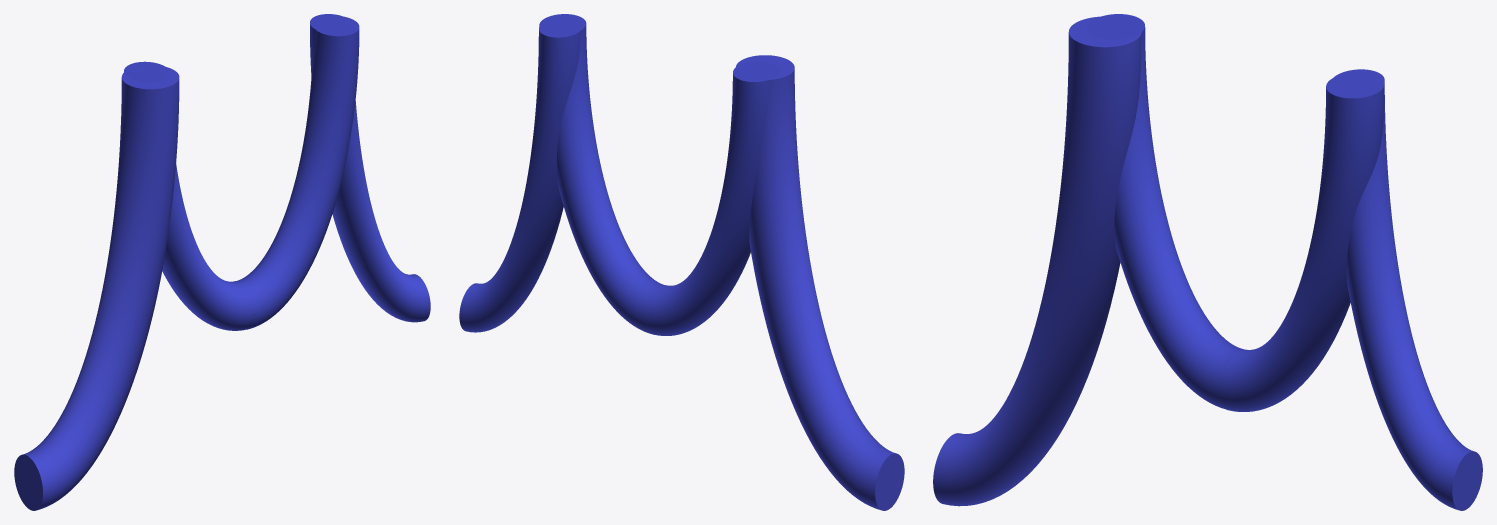
3 views of the same model, side by side, from view 1: azimuth 30°, elevation 25°; view 2: azimuth 150°, elevation 25°; view 3: azimuth 330°, elevation 25° (orthographic). The views are drawn at different scales.
Visible parts, largest first — view 1: root, node_id78, node_id79, node_id80; view 2: root, node_id79, node_id80, node_id78; view 3: root, node_id79, node_id78, node_id80.
Part boxes in pixels (<box>): root: <box>14,65,179,510</box>; node_id78: <box>237,16,359,329</box>; node_id79: <box>310,14,430,322</box>; node_id80: <box>124,61,253,330</box>; root: <box>736,55,904,510</box>; node_id79: <box>459,17,582,332</box>; node_id80: <box>647,61,779,335</box>; node_id78: <box>539,14,663,334</box>; root: <box>933,16,1141,506</box>; node_id79: <box>1330,69,1482,510</box>; node_id78: <box>1220,78,1384,411</box>; node_id80: <box>1087,14,1243,409</box>.
Bounding box in the file's own units: 0.3624 × 0.3484 × 0.0567.
3 materials, 1 textured.
